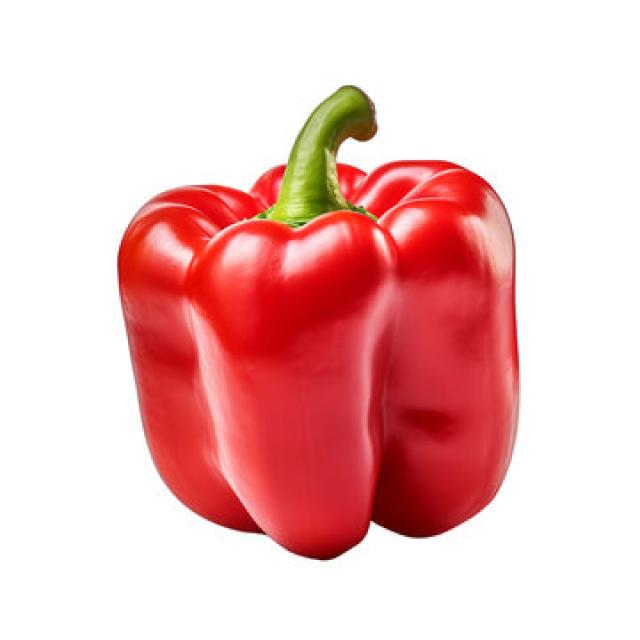Spinach: (119, 83, 524, 561)
